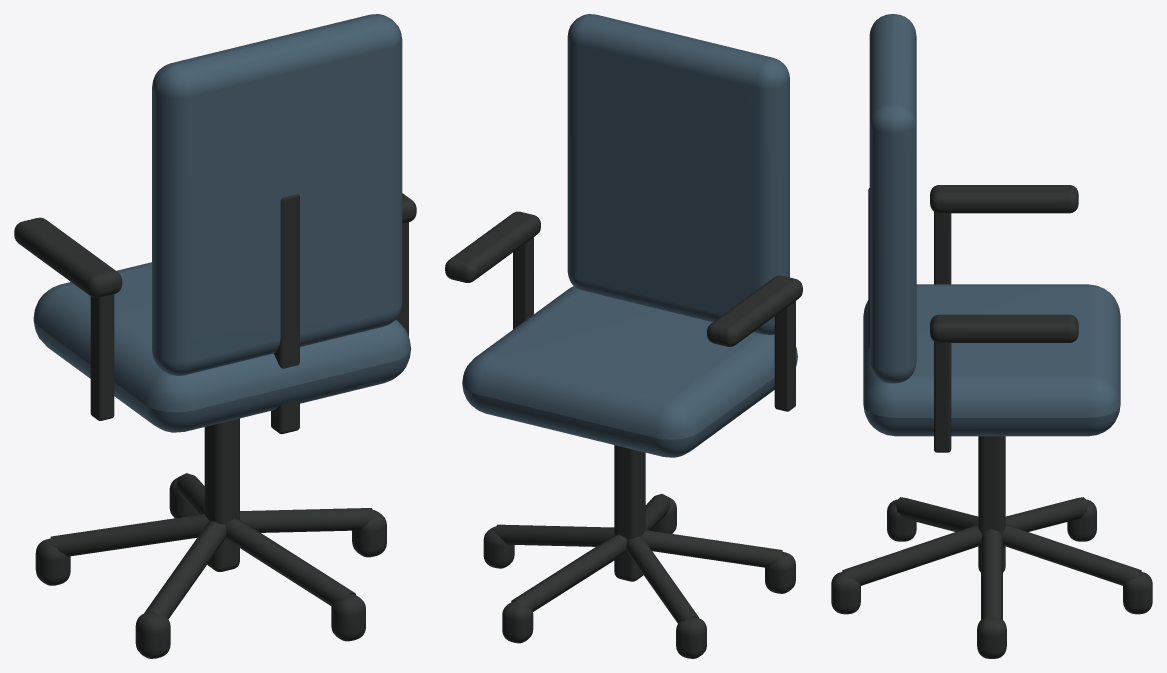
Rendered from office_chair.glb.
3 views of the same model, side by side, from view 1: azimuth 30°, elevation 25°; view 2: azimuth 150°, elevation 25°; view 3: azimuth 270°, elevation 25° (orthographic). The views are drawn at different scales.
Parts seen in each view (by area): view 1: Upholstered back, Upholstered seat, Back support, Gas lift, Arm pad, Star base.003, Star base.001, Arm upright, Star base, Star base.002, Caster.002, Caster.001 (+5 smaller); view 2: Upholstered back, Upholstered seat, Gas lift, Arm pad.001, Arm pad, Star base.002, Star base.004, Star base, Arm upright, Star base.003, Arm upright.001, Caster.003 (+4 smaller); view 3: Upholstered seat, Upholstered back, Arm pad.001, Arm pad, Star base.001, Star base.004, Gas lift, Arm upright.001, Star base, Star base.002, Star base.003, Arm upright (+5 smaller).
Boxes of the visible parts, bbox=[...] form: Upholstered back: bbox=[152, 14, 402, 375]; Upholstered seat: bbox=[33, 262, 411, 432]; Back support: bbox=[271, 194, 299, 434]; Gas lift: bbox=[204, 418, 239, 571]; Arm pad: bbox=[14, 217, 122, 297]; Star base.003: bbox=[50, 514, 208, 556]; Star base.001: bbox=[225, 519, 355, 606]; Arm upright: bbox=[90, 294, 114, 420]; Star base: bbox=[240, 508, 375, 532]; Star base.002: bbox=[144, 520, 226, 618]; Caster.002: bbox=[135, 611, 170, 658]; Caster.001: bbox=[331, 593, 365, 641]; Upholstered back: bbox=[567, 14, 789, 334]; Upholstered seat: bbox=[462, 286, 797, 457]; Gas lift: bbox=[614, 445, 645, 581]; Arm pad.001: bbox=[445, 211, 540, 282]; Arm pad: bbox=[707, 275, 802, 346]; Star base.002: bbox=[642, 530, 782, 567]; Star base.004: bbox=[511, 534, 626, 611]; Star base: bbox=[494, 524, 614, 546]; Arm upright: bbox=[774, 301, 795, 411]; Star base.003: bbox=[626, 536, 699, 623]; Arm upright.001: bbox=[513, 237, 533, 329]; Caster.003: bbox=[676, 616, 706, 658]; Upholstered seat: bbox=[863, 284, 1120, 436]; Upholstered back: bbox=[869, 14, 916, 383]; Arm pad.001: bbox=[930, 314, 1078, 342]; Arm pad: bbox=[930, 185, 1078, 213]; Star base.001: bbox=[842, 524, 982, 585]; Star base.004: bbox=[1001, 524, 1141, 585]; Gas lift: bbox=[978, 436, 1005, 572]; Arm upright.001: bbox=[934, 341, 951, 452]; Star base: bbox=[981, 529, 1002, 620]; Star base.002: bbox=[894, 497, 978, 531]; Star base.003: bbox=[1005, 497, 1089, 531]; Arm upright: bbox=[934, 212, 951, 284].
Size of the model in its own units: 0.69 by 1.19 by 0.6497.
